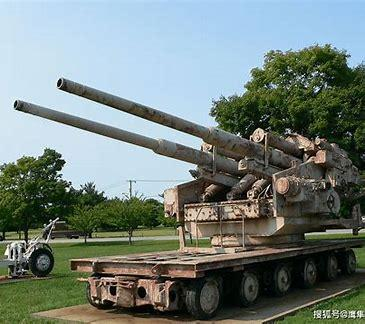MIL_SPG: (17, 101, 362, 318)
